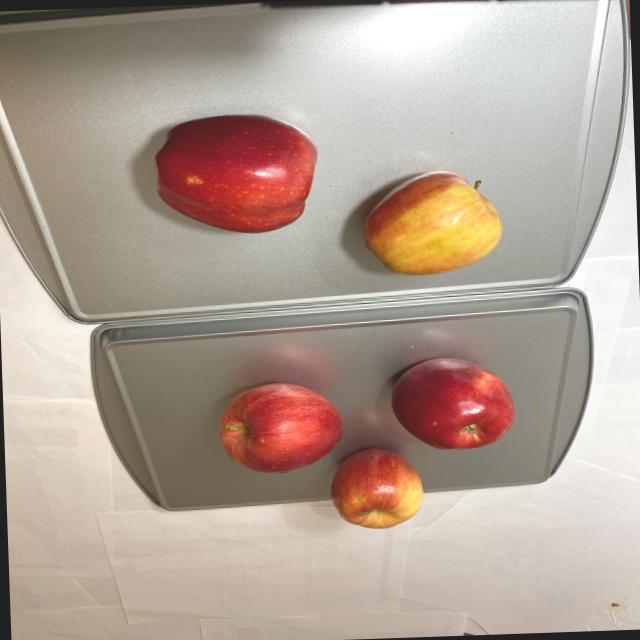apple: (148, 105, 510, 286), (209, 350, 522, 535)
